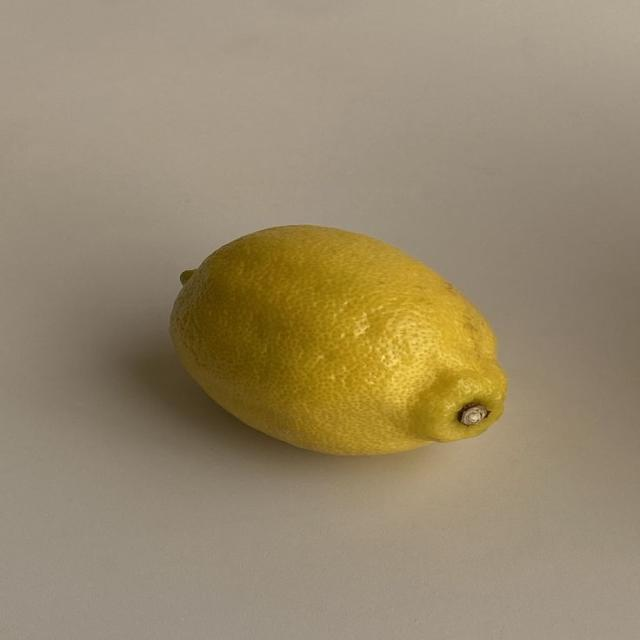lemon: (171, 226, 506, 454)
